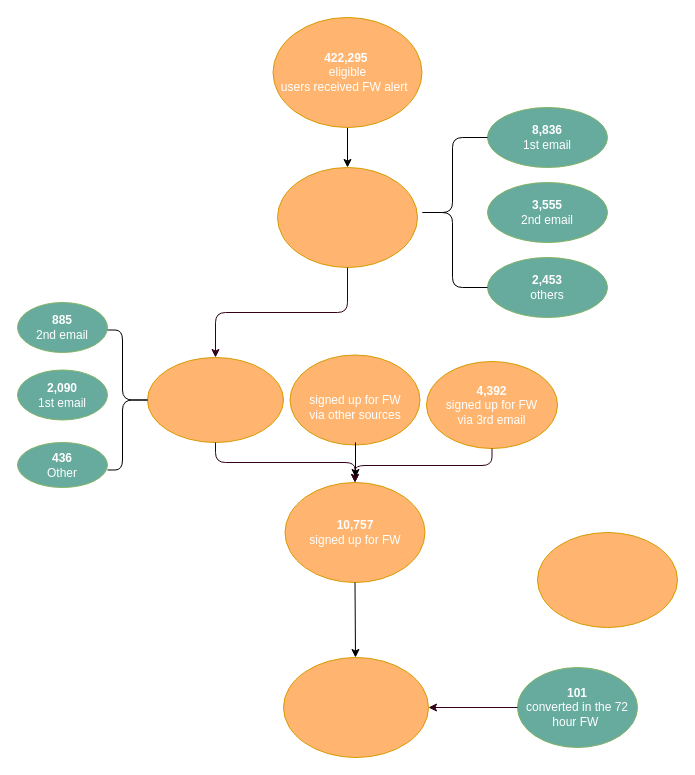
Some shapes in this 695 by 775 pixel diagram are drawn without their labels. The shapes that lost their labels are listed below. From the top down, each one's centre as x and y in pixels, then its label:
At pixel 347 217: "14,844 signed up for FW reminder".
At pixel 215 399: "3,411 signed up for FW via reminder".
At pixel 607 580: "7,639 watch at least one video".
At pixel 355 707: "151 FW converted to subscribers (oct 4- oct 10)".
